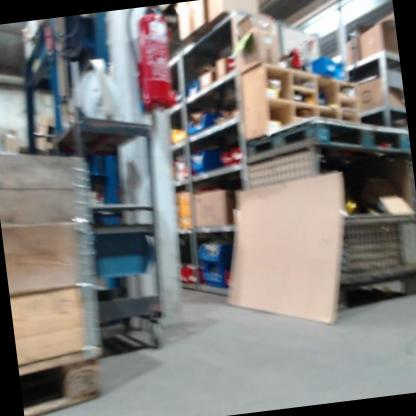pallet: (242, 113, 407, 168), (17, 348, 111, 416)
stillage: (239, 130, 416, 323)
